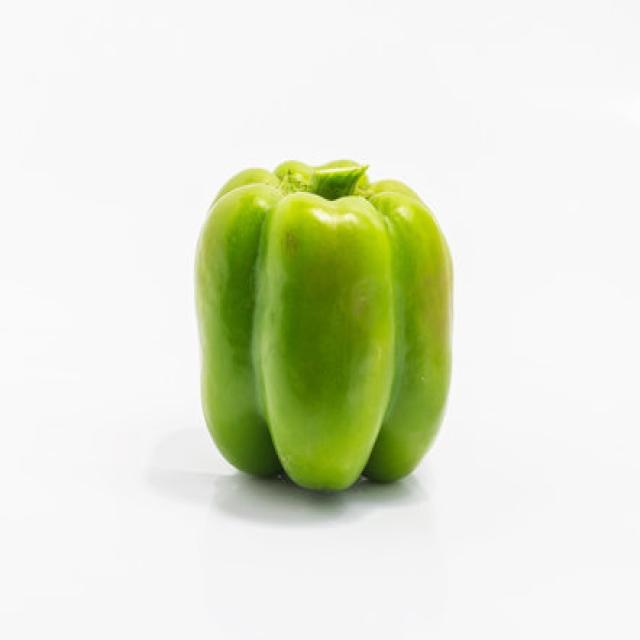Bell Pepper: (199, 150, 453, 482)
